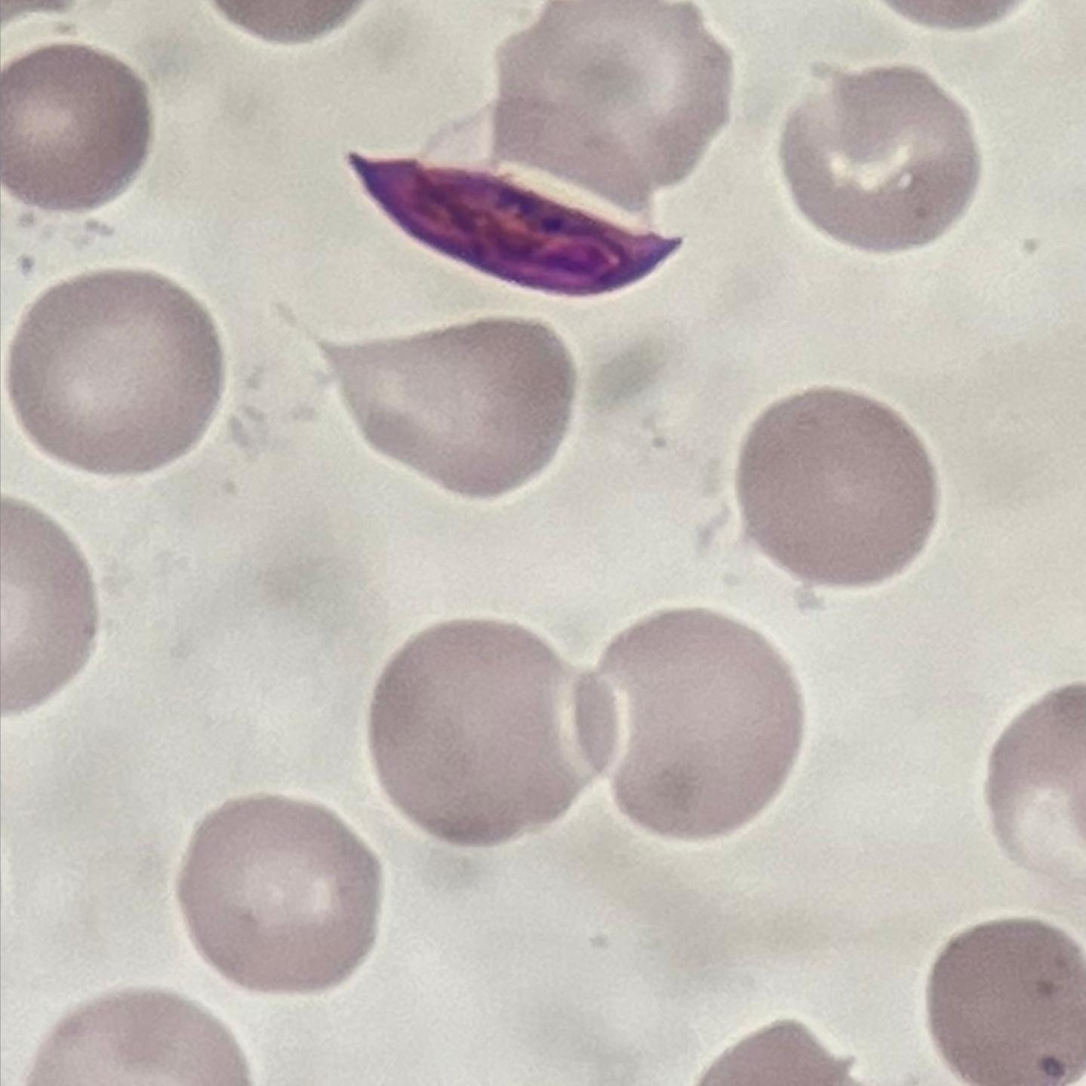Infected: (349, 87, 686, 299)
Uninfected: (377, 615, 621, 845), (581, 602, 801, 840), (483, 0, 733, 207), (2, 263, 230, 475), (321, 317, 571, 501), (736, 389, 937, 588), (177, 798, 384, 991), (781, 63, 980, 256), (0, 44, 158, 211), (928, 919, 1086, 1086)
